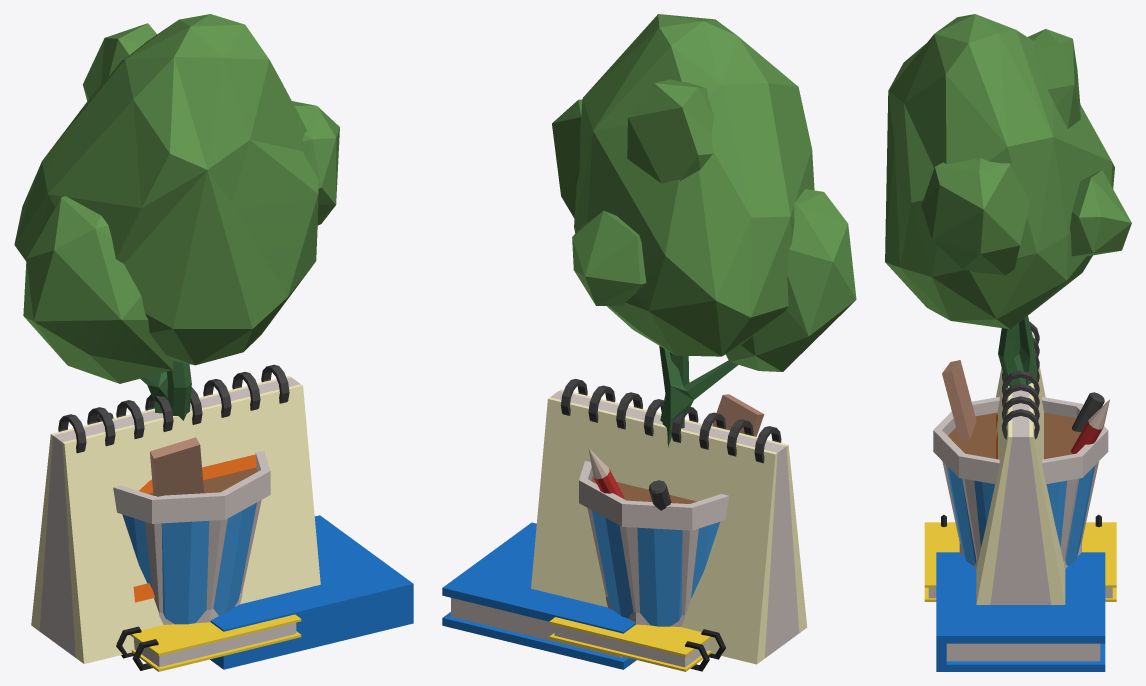
The model's file is Deco pack 1.fbx.
The picture shows the model from 3 angles, left to right: view 1: azimuth 30°, elevation 25°; view 2: azimuth 150°, elevation 25°; view 3: azimuth 270°, elevation 25°; orthographic projection. The views are drawn at different scales.
Visible parts, largest first — view 1: Plant 2, Plane.007, Plant 1, Book_01, Circle.001, NoteBook_01; view 2: Plant 2, Plane.007, Plant 1, Book_01, Circle.001, NoteBook_01; view 3: Plant 2, Plant 1, Book_01, Plane.007, Circle.001, NoteBook_01.
Boxes of the visible parts, x1,y1,x2,y2 form: Plant 2: (14,14,318,612); Plane.007: (31,364,320,663); Plant 1: (23,23,339,624); Book_01: (210,515,413,669); Circle.001: (97,412,256,624); NoteBook_01: (116,614,301,671); Plant 2: (574,14,814,615); Plane.007: (531,379,807,664); Plant 1: (552,79,856,626); Book_01: (442,522,636,669); Circle.001: (588,394,764,626); NoteBook_01: (549,617,725,671); Plant 2: (885,14,1114,560); Plant 1: (921,29,1131,568); Book_01: (936,552,1105,671); Plane.007: (976,321,1065,604); Circle.001: (942,360,1109,565); NoteBook_01: (924,514,1116,601).
Size of the model in its own units: 83.24 by 139 by 54.72.
